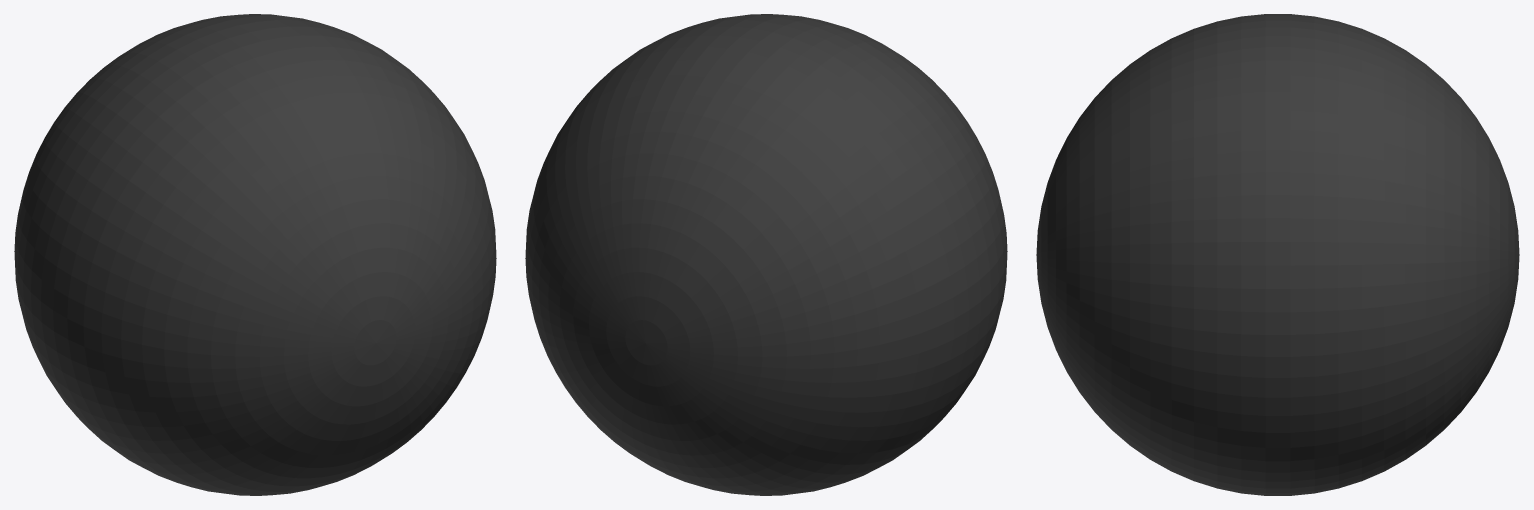
The model's file is default_brow.glb.
3 views of the same model, side by side, from view 1: azimuth 30°, elevation 25°; view 2: azimuth 150°, elevation 25°; view 3: azimuth 270°, elevation 25° (orthographic).
Visible parts, largest first — view 1: world; view 2: world; view 3: world.
Boxes of the visible parts, left/top/right/bottom form: world: left=14, top=14, right=496, bottom=495; world: left=525, top=14, right=1007, bottom=495; world: left=1036, top=14, right=1519, bottom=495.
Size of the model in its own units: 0.024 by 0.024 by 0.024.
Materials: 1 (1 with a texture image).
